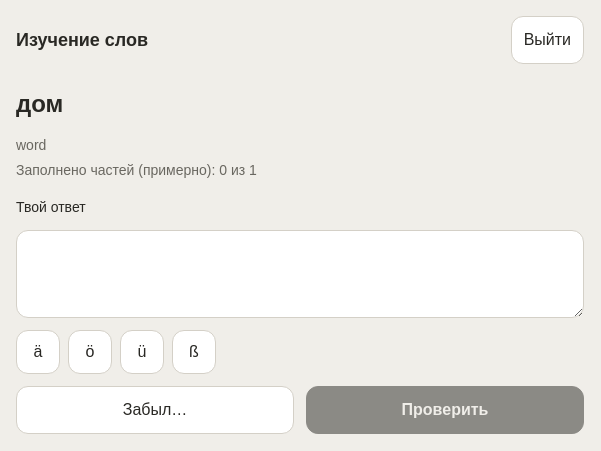
LearningScreen: «Шаг назад» › is not shown without the server's right
In the text box: (300, 274) [16,230,584,318], type "falsch"
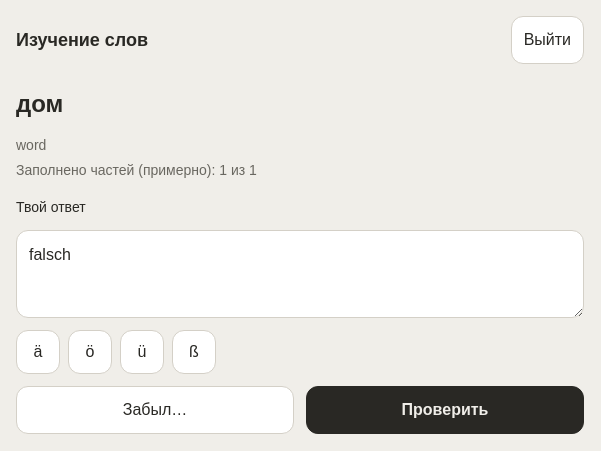
Click the button "Проверить": click(445, 410) [306,386,584,434]
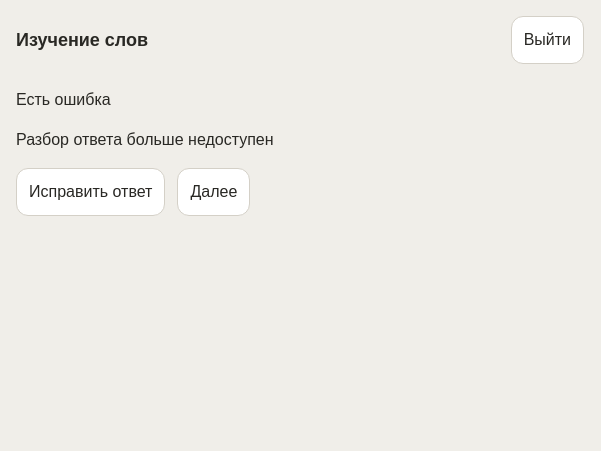
Expected: the button "Исправить ответ" is shown, [16,168,165,216]
